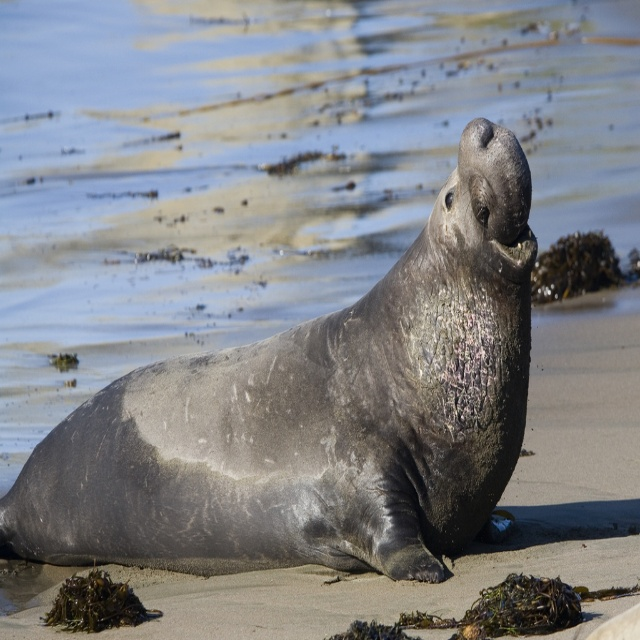Harbor seal: (0, 120, 529, 584)
